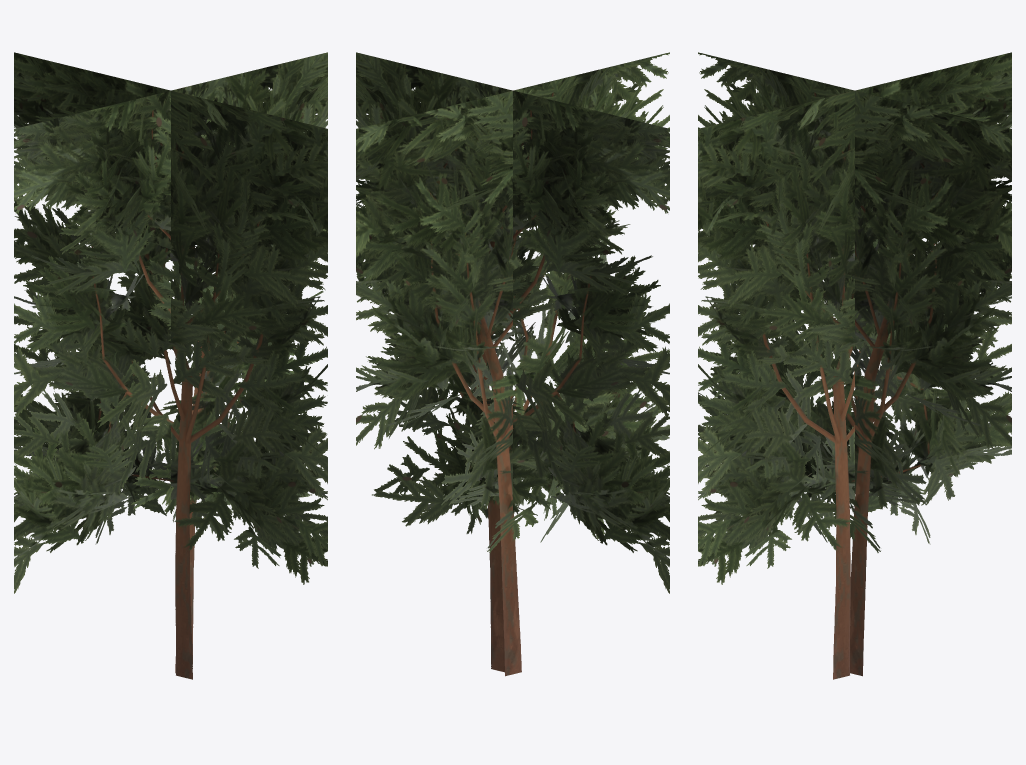
The model's file is borovice_mlada_daleko.glb.
3 renders of one model, left to right at view 1: azimuth 30°, elevation 25°; view 2: azimuth 150°, elevation 25°; view 3: azimuth 270°, elevation 25°, orthographic.
Parts seen in each view (by area): view 1: borovice_mlada_daleko; view 2: borovice_mlada_daleko; view 3: borovice_mlada_daleko.
Part boxes in pixels (x1,y1,x2,y2): borovice_mlada_daleko: [14, 52, 327, 679]; borovice_mlada_daleko: [356, 52, 669, 676]; borovice_mlada_daleko: [698, 52, 1011, 679].
Size of the model in its own units: 4.75 by 8.44 by 4.11.
3 materials, 3 textured.
